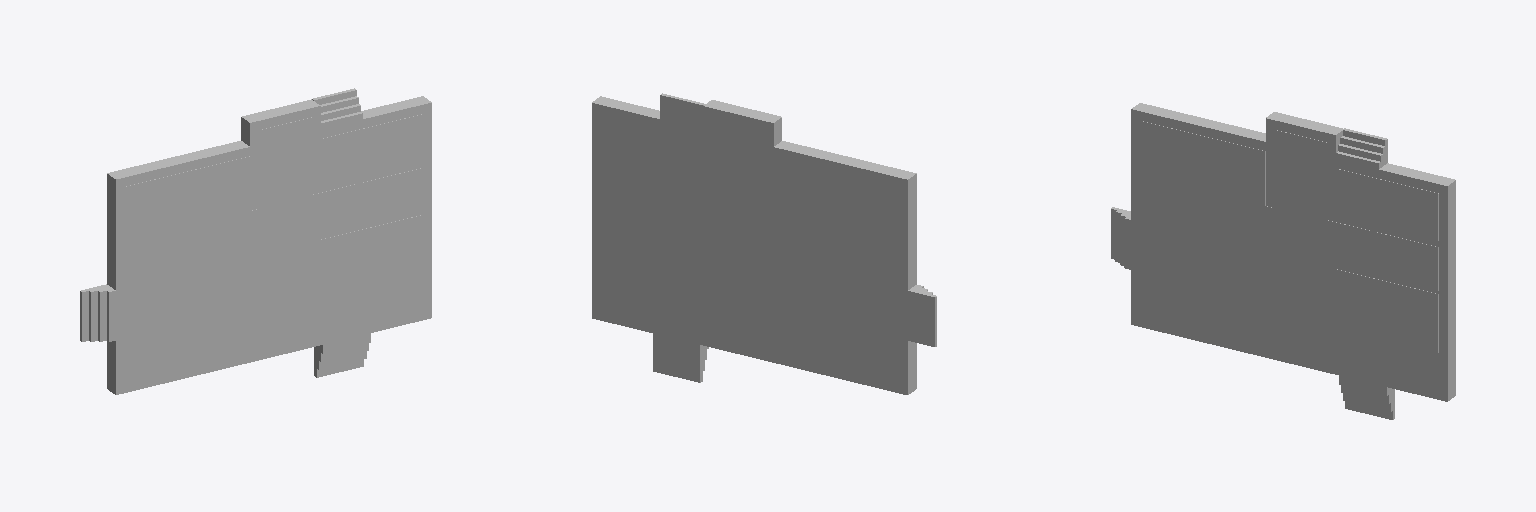
Rendered from Sockel.obj.
3 renders of one model, left to right at view 1: azimuth 30°, elevation 25°; view 2: azimuth 150°, elevation 25°; view 3: azimuth 330°, elevation 25°, orthographic.
Bounding box in the file's own units: 15098 × 11683 × 690.